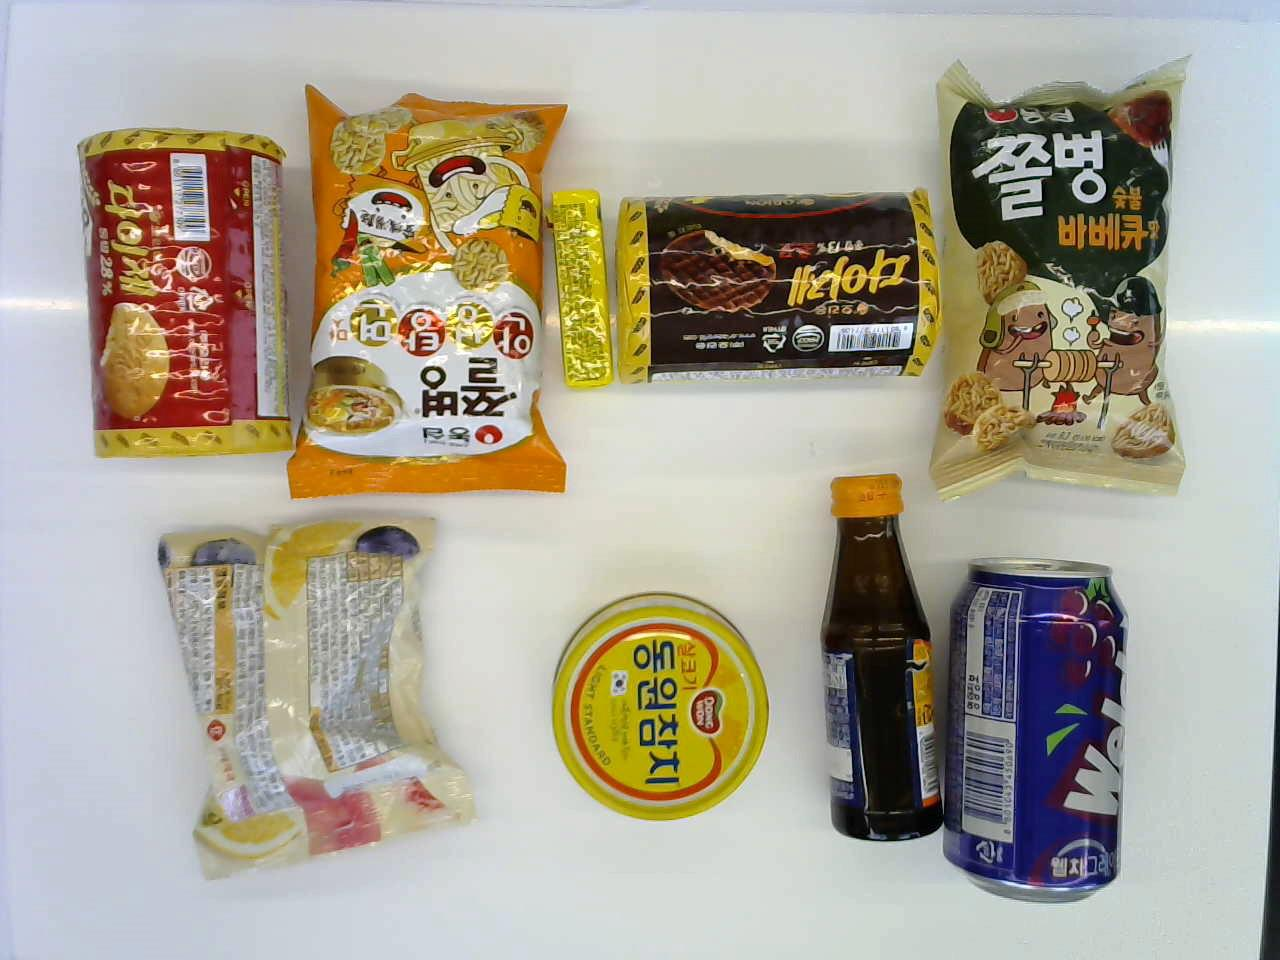diget_choco: (623, 179, 931, 394)
diget_ori: (72, 122, 293, 465)
gumi_gumi: (150, 503, 471, 846)
jjolbyung_noodle: (288, 88, 572, 506)
jjolbyung_ori: (931, 47, 1191, 495)
juicyfresh: (544, 181, 611, 407)
tuna: (544, 570, 765, 832)
vita500: (800, 466, 936, 899)
welchs: (946, 551, 1149, 902)
